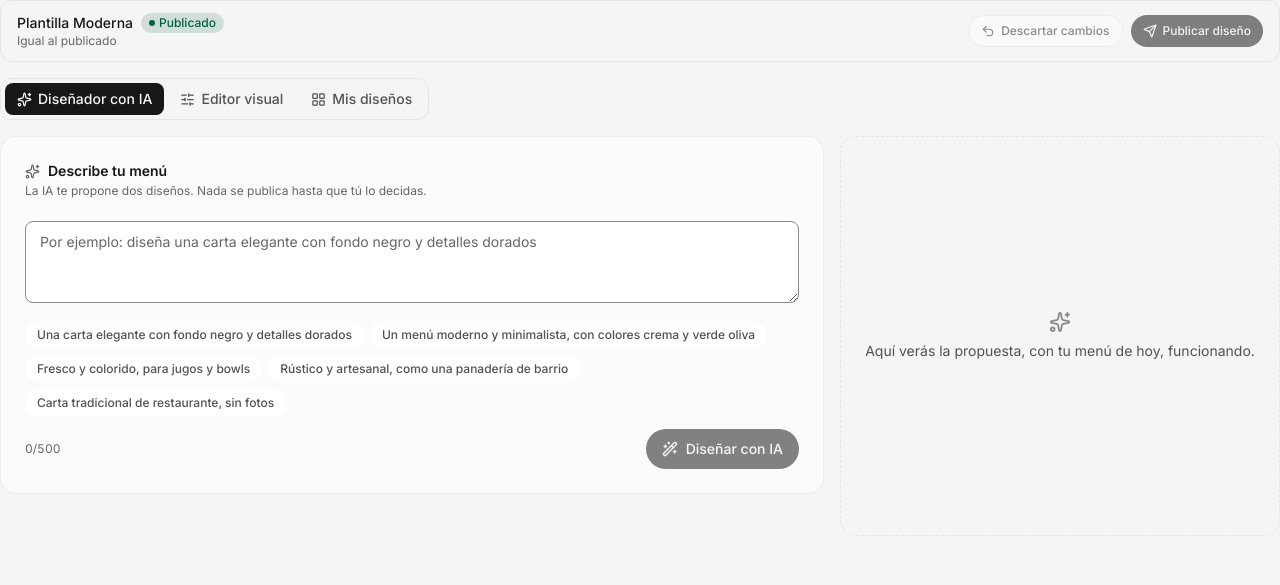
Test case: Diseñador con IA y Mis diseños (ADR 0054) › a quota or availability problem is explained, not hidden
The image size is (1280, 585).
Click the button "Carta tradicional de restaurante, sin fotos".
click(156, 403)  # box [25,389,286,417]
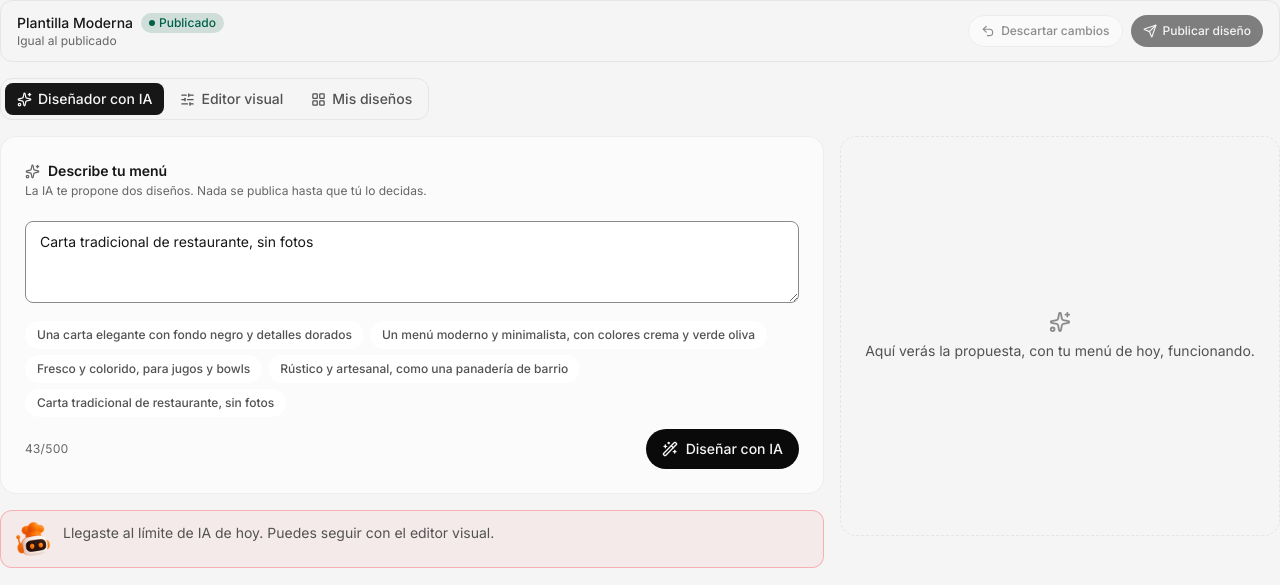
Now the message shows "Llegaste al límite de IA de hoy", box [63,524,494,541]
